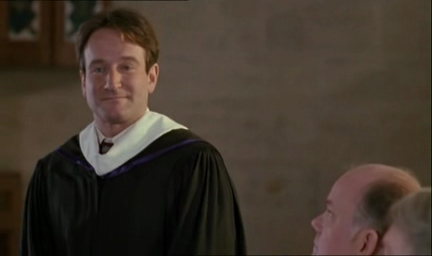face: (86, 40, 142, 121)
mcu: (1, 1, 432, 256)
person: (19, 8, 248, 256)
